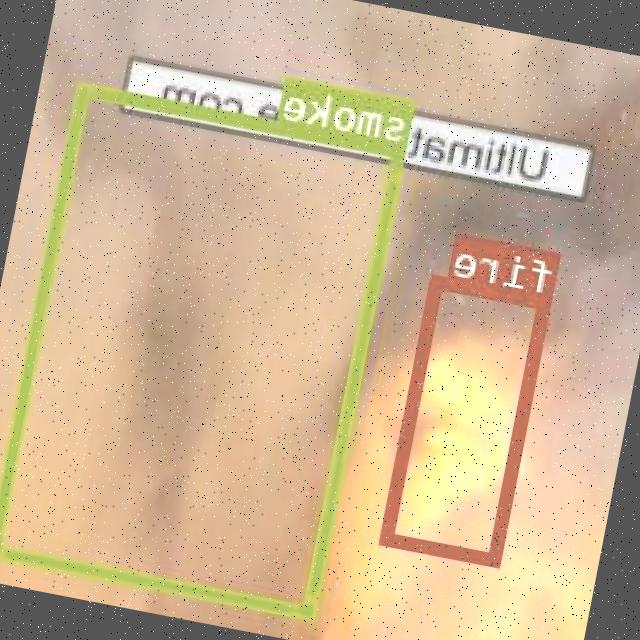fire: (382, 273, 554, 566)
smoke: (0, 81, 408, 619)
